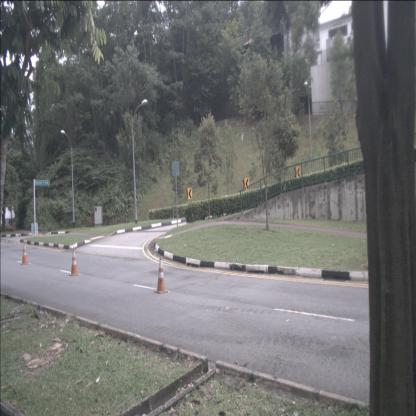cone: (154, 257, 168, 294), (69, 248, 79, 276), (21, 243, 30, 265)
